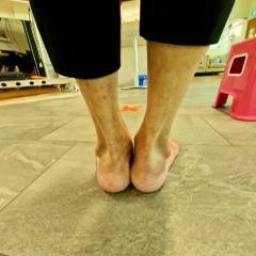Back View -Both Feet-: (80, 114, 188, 204)
